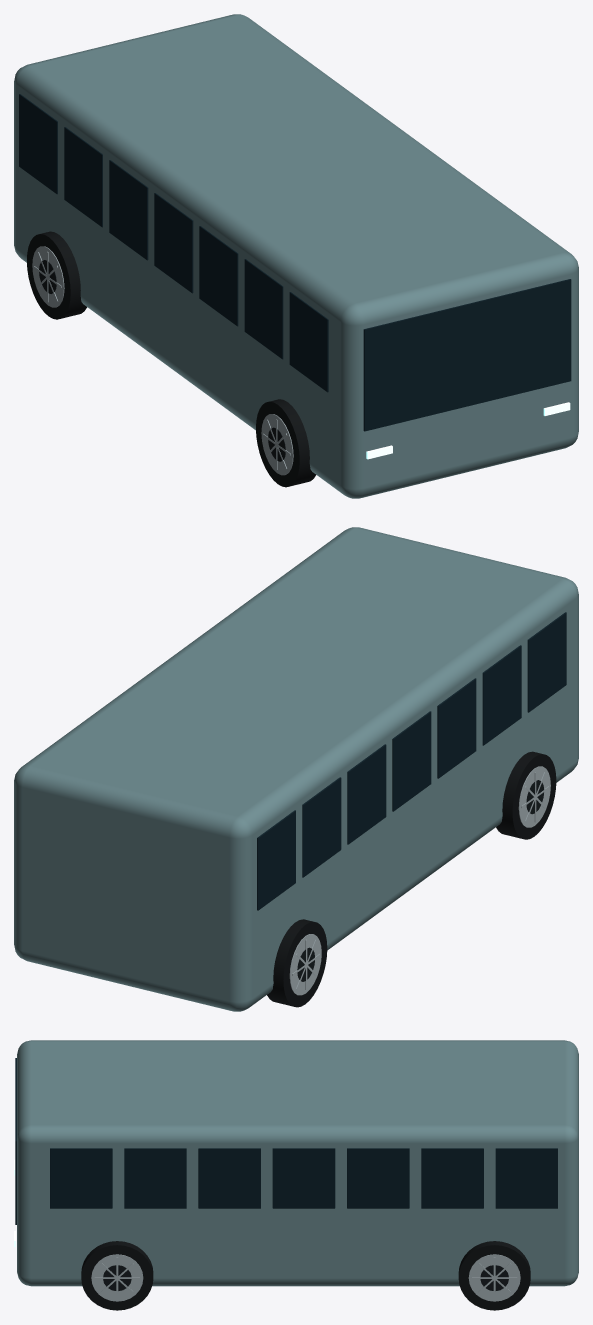
Rendered from bus.glb.
3 views of the same model, one above another, from view 1: azimuth 30°, elevation 25°; view 2: azimuth 150°, elevation 25°; view 3: azimuth 270°, elevation 25° (orthographic). The views are drawn at different scales.
Visible parts, largest first — view 1: Barak_bus; view 2: Barak_bus; view 3: Barak_bus.
Boxes of the visible parts, left/top/right/bottom form: Barak_bus: left=14, top=14, right=578, bottom=498; Barak_bus: left=14, top=527, right=578, bottom=1011; Barak_bus: left=14, top=1040, right=578, bottom=1310.
Bounding box in the file's own units: 6.14 × 4.83 × 14.07.
